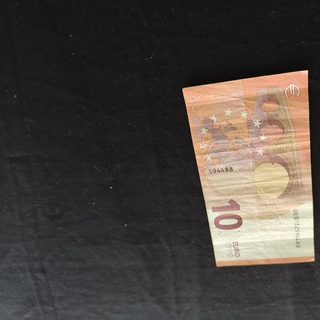10EUROBack: (181, 69, 315, 267)
